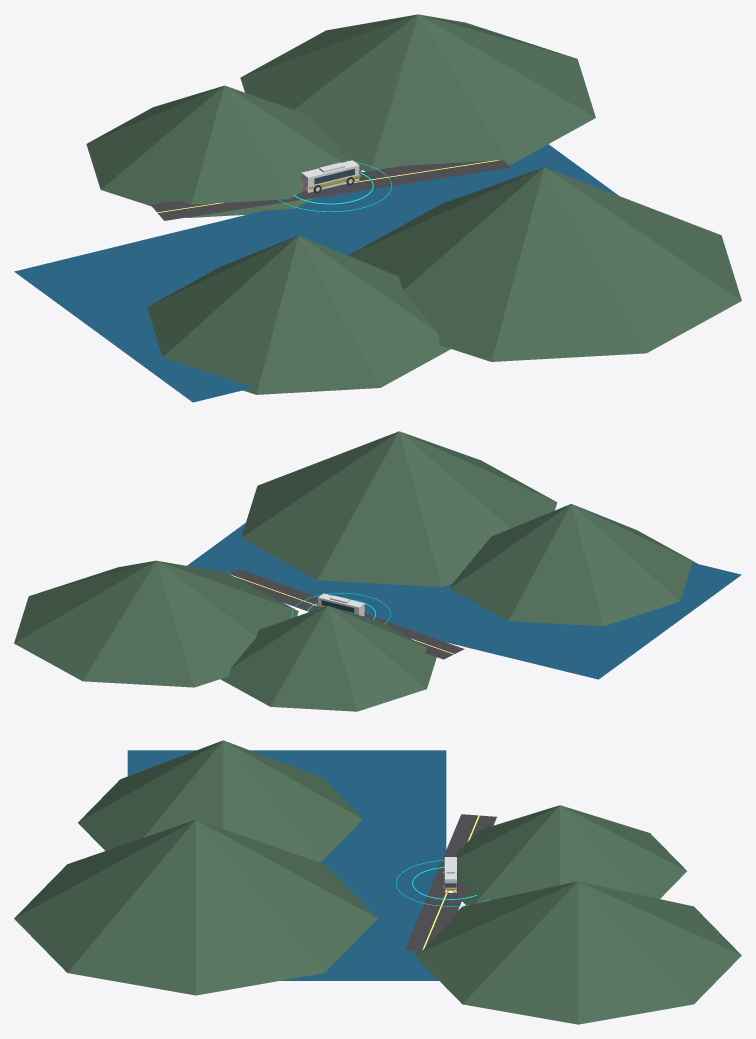
File: 6670_sunmoonlake_bus.glb
3 renders of one model, top to bottom at view 1: azimuth 30°, elevation 25°; view 2: azimuth 150°, elevation 25°; view 3: azimuth 270°, elevation 25°, orthographic. The views are drawn at different scales.
Visible parts, largest first — view 1: Mountain_2, Mountain_4, Mountain_1, Sun_Moon_Lake, Mountain_3, Highway_21, Bus_Body; view 2: Mountain_2, Mountain_4, Mountain_1, Sun_Moon_Lake, Mountain_3, Highway_21; view 3: Mountain_2, Mountain_4, Sun_Moon_Lake, Mountain_1, Mountain_3, Highway_21.
Part boxes in pixels (<box>): Mountain_2: <box>348,167,741,361</box>; Mountain_4: <box>240,14,595,171</box>; Mountain_1: <box>147,235,450,394</box>; Sun_Moon_Lake: <box>14,144,618,402</box>; Mountain_3: <box>86,85,361,217</box>; Highway_21: <box>150,160,509,220</box>; Bus_Body: <box>301,160,359,192</box>; Mountain_2: <box>241,431,557,586</box>; Mountain_4: <box>14,560,298,687</box>; Mountain_1: <box>450,504,697,626</box>; Sun_Moon_Lake: <box>187,523,741,679</box>; Mountain_3: <box>220,605,436,711</box>; Highway_21: <box>229,569,464,659</box>; Mountain_2: <box>14,820,377,995</box>; Mountain_4: <box>414,881,741,1024</box>; Sun_Moon_Lake: <box>127,750,446,980</box>; Mountain_1: <box>78,740,362,861</box>; Mountain_3: <box>436,805,686,905</box>; Highway_21: <box>404,814,496,951</box>.
Size of the model in its own units: 72 by 12.5 by 80.
